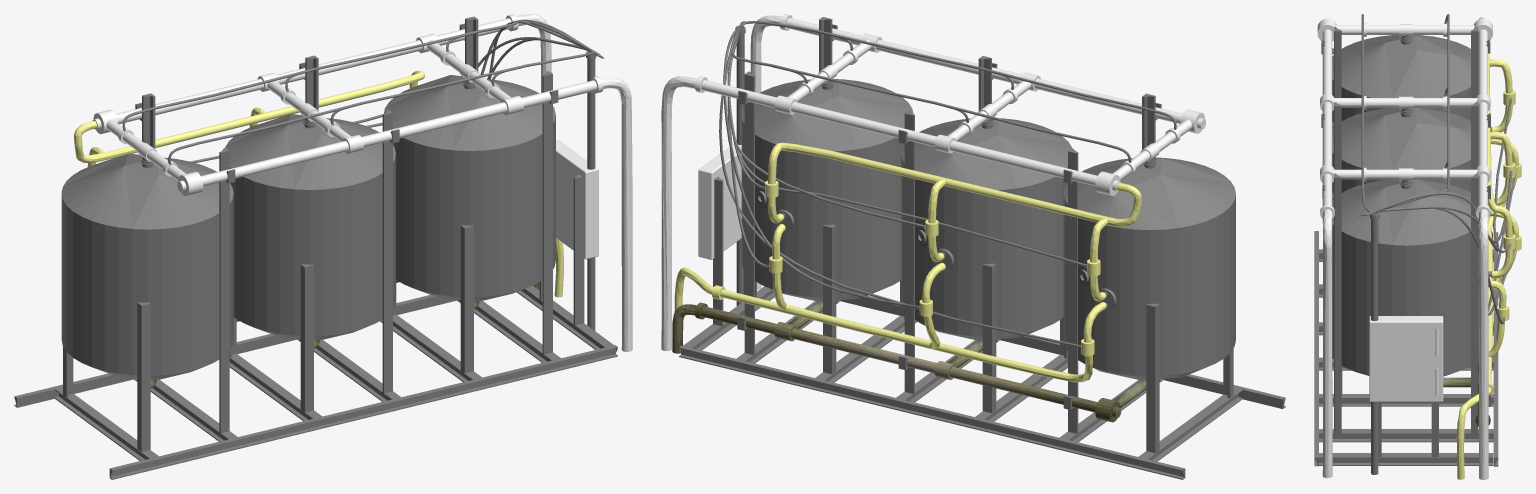
File: Filter.obj
3 views of the same model, side by side, from view 1: azimuth 30°, elevation 25°; view 2: azimuth 150°, elevation 25°; view 3: azimuth 270°, elevation 25° (orthographic). The views are drawn at different scales.
Visible parts, largest first — view 1: objWaterFi; view 2: objWaterFi; view 3: objWaterFi.
Boxes of the visible parts, box(x1,y1,x2,y2) form: objWaterFi: box(14, 14, 632, 479); objWaterFi: box(661, 14, 1285, 479); objWaterFi: box(1314, 14, 1521, 479).
Bounding box in the file's own units: 6375 × 3394 × 2352.
8 materials, 1 textured.
